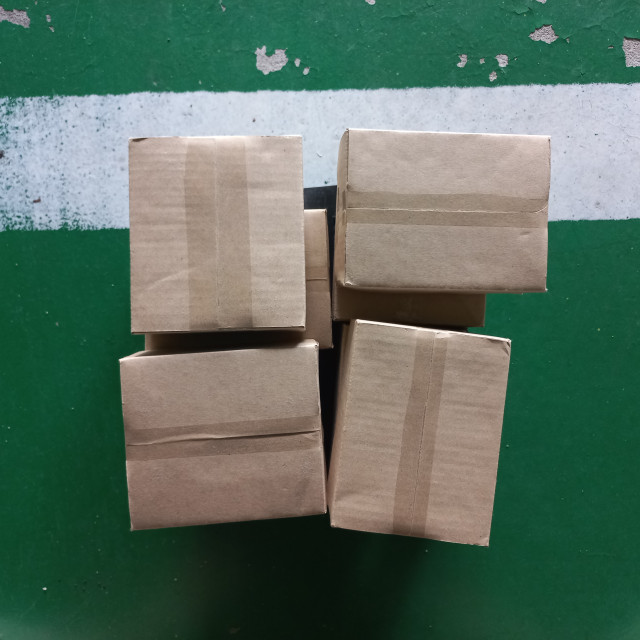box: (327, 316, 512, 550), (115, 339, 328, 533), (333, 124, 554, 308), (126, 130, 310, 340)
